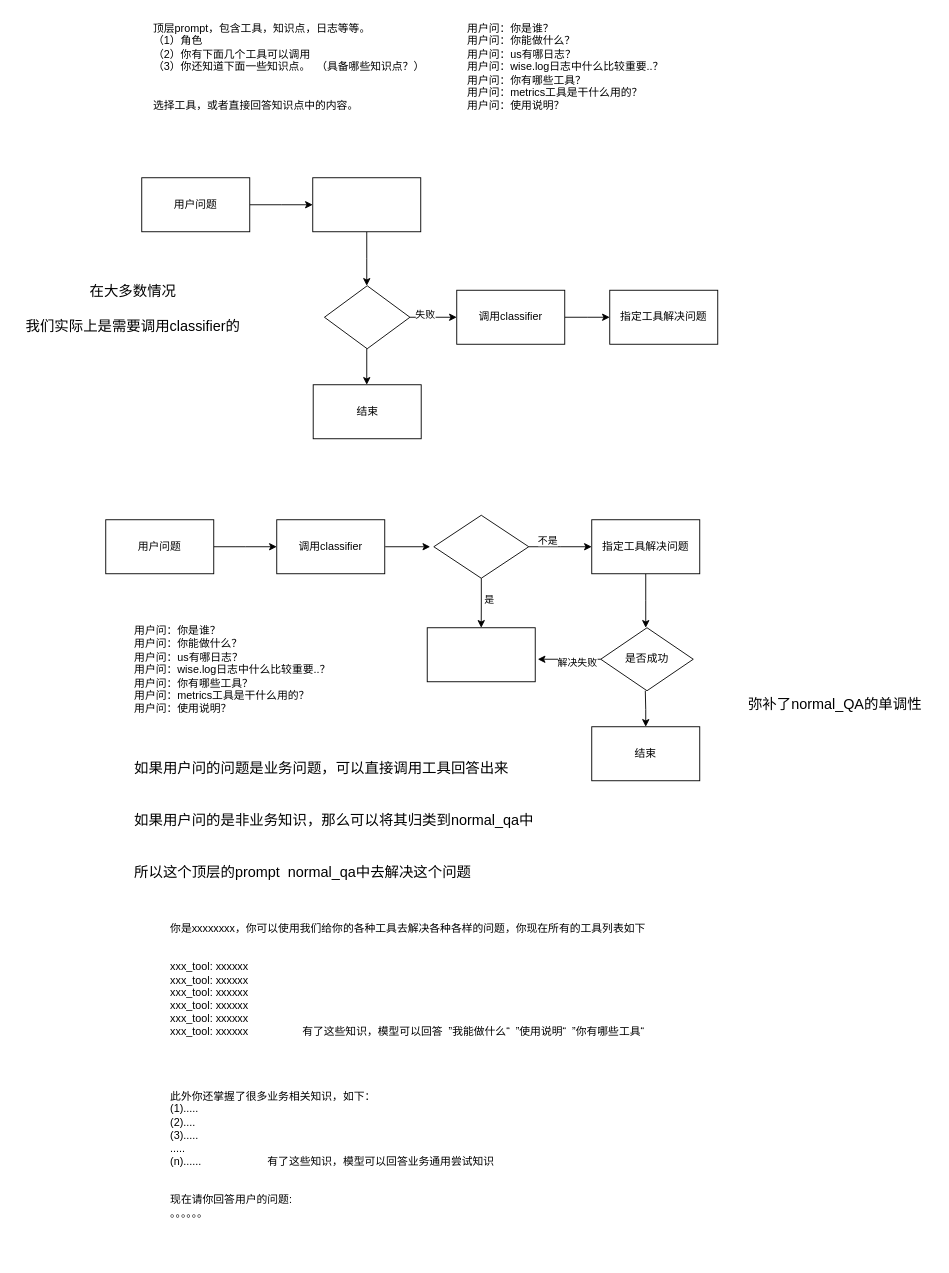
The diagram is 949 pixels wide and 1273 high, and some of its shapes have lost their labels. The box of each missing label's shape, as (x1, y1, x2, y2) in pixels:
normal_QA: (426, 627, 535, 682)
normal_QA?: (433, 514, 529, 578)
回答是否成功: (324, 285, 410, 349)
顶层prompt尝试回答: (312, 177, 421, 232)
